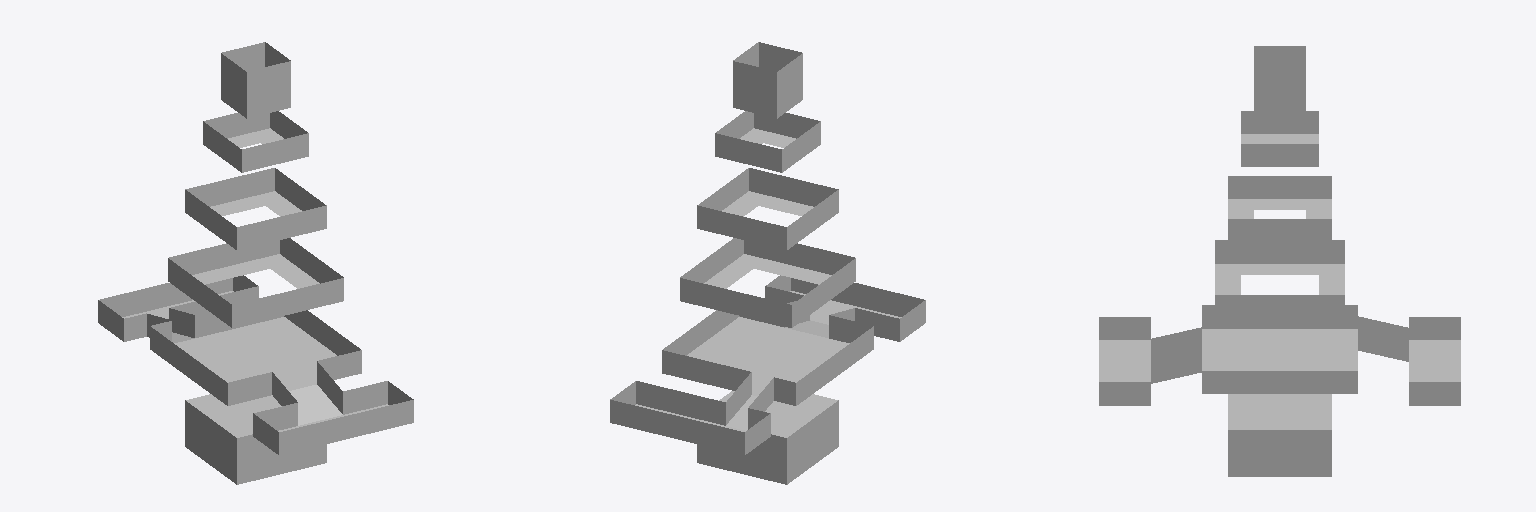
The model's file is tree-04-visual.obj.
The picture shows the model from 3 angles: view 1: azimuth 30°, elevation 25°; view 2: azimuth 150°, elevation 25°; view 3: azimuth 270°, elevation 25°; orthographic projection.
Parts seen in each view (by area): view 1: Plane.158_Plane.178, Plane.175_Plane.209, Plane.202_Plane.237, Plane.204_Plane.239, Plane.212_Plane.247, Plane.180_Plane.214, Plane.189_Plane.224, Plane.191_Plane.226, Plane.215_Plane.250; view 2: Plane.151_Plane.168, Plane.177_Plane.211, Plane.183_Plane.217, Plane.211_Plane.246, Plane.213_Plane.248, Plane.186_Plane.220, Plane.203_Plane.238, Plane.161_Plane.181, Plane.197_Plane.232, Plane.199_Plane.234, Plane.221_Plane.256, Plane.137_Plane.156 (+2 smaller); view 3: Plane.156_Plane.176, Plane.157_Plane.177, Plane.184_Plane.218, Plane.185_Plane.219, Plane.206_Plane.241, Plane.207_Plane.242, Plane.208_Plane.243, Plane.209_Plane.244, Plane.225_Plane.260, Plane.226_Plane.261, Plane.277_Plane.316, Plane.278_Plane.317 (+28 smaller).
Boxes of the visible parts, x1=… form: Plane.158_Plane.178: x1=365, y1=381, x2=387, y2=409; Plane.175_Plane.209: x1=143, y1=283, x2=165, y2=311; Plane.202_Plane.237: x1=304, y1=205, x2=326, y2=233; Plane.204_Plane.239: x1=259, y1=216, x2=281, y2=244; Plane.212_Plane.247: x1=230, y1=173, x2=252, y2=201; Plane.180_Plane.214: x1=124, y1=313, x2=146, y2=341; Plane.189_Plane.224: x1=277, y1=289, x2=299, y2=316; Plane.191_Plane.226: x1=232, y1=300, x2=254, y2=327; Plane.215_Plane.250: x1=264, y1=139, x2=286, y2=166; Plane.151_Plane.168: x1=684, y1=355, x2=706, y2=383; Plane.177_Plane.211: x1=722, y1=427, x2=744, y2=455; Plane.183_Plane.217: x1=636, y1=381, x2=658, y2=409; Plane.211_Plane.246: x1=742, y1=216, x2=764, y2=244; Plane.213_Plane.248: x1=697, y1=205, x2=719, y2=233; Plane.186_Plane.220: x1=703, y1=397, x2=725, y2=425; Plane.203_Plane.238: x1=771, y1=173, x2=793, y2=201; Plane.161_Plane.181: x1=877, y1=313, x2=899, y2=341; Plane.197_Plane.232: x1=769, y1=300, x2=791, y2=327; Plane.199_Plane.234: x1=724, y1=289, x2=746, y2=316; Plane.221_Plane.256: x1=737, y1=139, x2=759, y2=166; Plane.137_Plane.156: x1=829, y1=315, x2=851, y2=342; Plane.156_Plane.176: x1=1099, y1=382, x2=1124, y2=405; Plane.157_Plane.177: x1=1125, y1=382, x2=1150, y2=405; Plane.184_Plane.218: x1=1409, y1=382, x2=1434, y2=405; Plane.185_Plane.219: x1=1435, y1=382, x2=1460, y2=405; Plane.206_Plane.241: x1=1306, y1=219, x2=1331, y2=242; Plane.207_Plane.242: x1=1280, y1=219, x2=1305, y2=242; Plane.208_Plane.243: x1=1254, y1=219, x2=1279, y2=242; Plane.209_Plane.244: x1=1228, y1=219, x2=1253, y2=242; Plane.225_Plane.260: x1=1280, y1=91, x2=1305, y2=114; Plane.226_Plane.261: x1=1254, y1=91, x2=1279, y2=114; Plane.277_Plane.316: x1=1306, y1=430, x2=1331, y2=453; Plane.278_Plane.317: x1=1280, y1=430, x2=1305, y2=453.
Bounding box in the file's own units: 24 × 68 × 56.